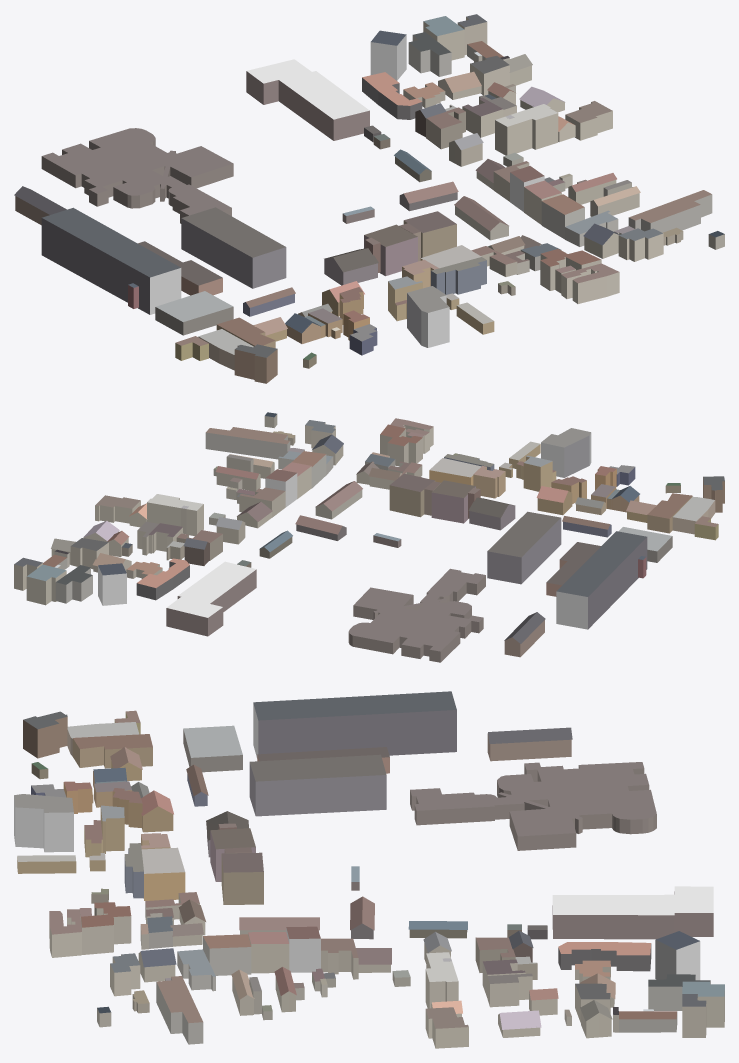
3 renders of one model, top to bottom at view 1: azimuth 30°, elevation 25°; view 2: azimuth 150°, elevation 25°; view 3: azimuth 270°, elevation 25°, orthographic. The views are drawn at different scales.
Visible parts, largest first — view 1: tuile; view 2: tuile; view 3: tuile.
Boxes of the visible parts, bbox=[...] form: tuile: bbox=[14, 14, 724, 383]; tuile: bbox=[14, 412, 724, 662]; tuile: bbox=[14, 691, 724, 1048].
Size of the model in its own units: 262 by 19.93 by 252.
